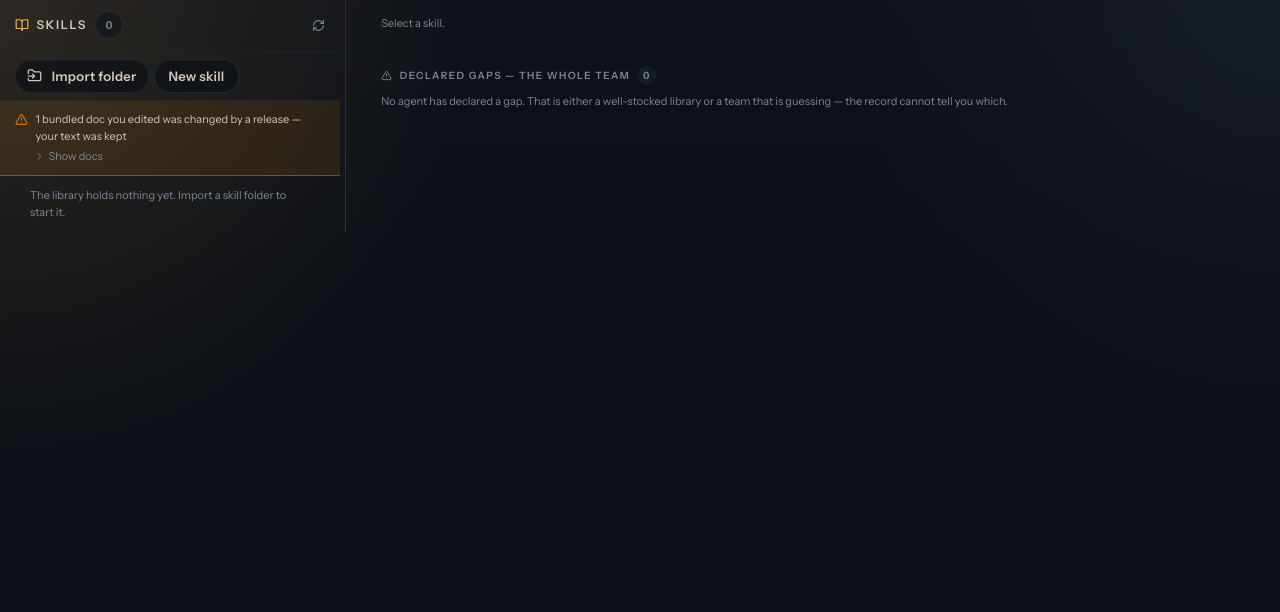
Test: the Skills page flag banner (DL-232) › shows the reason on the card when a decision is refused
This screenshot has width=1280, height=612.
Expected: the message named "bundled skill docs kept for your decision" is shown, [0,101,340,176]
Click the button "Show docs" at (68, 157), box [34,148,103,166]
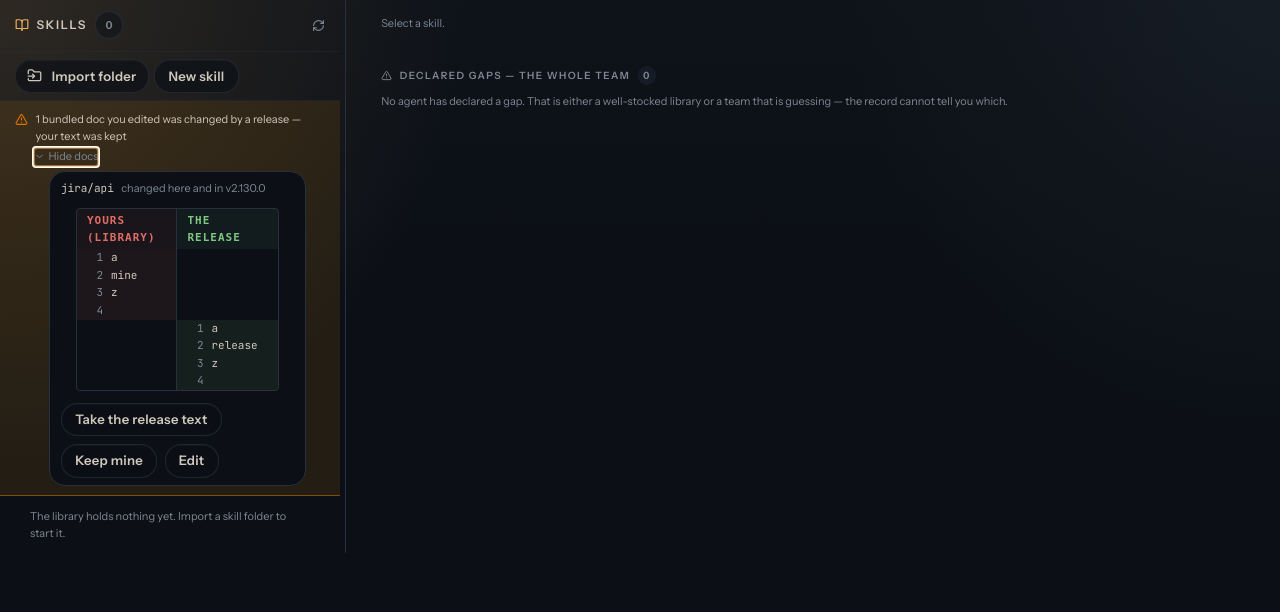
Click the button "Keep mine" at (109, 461), box [61,444,157,478]
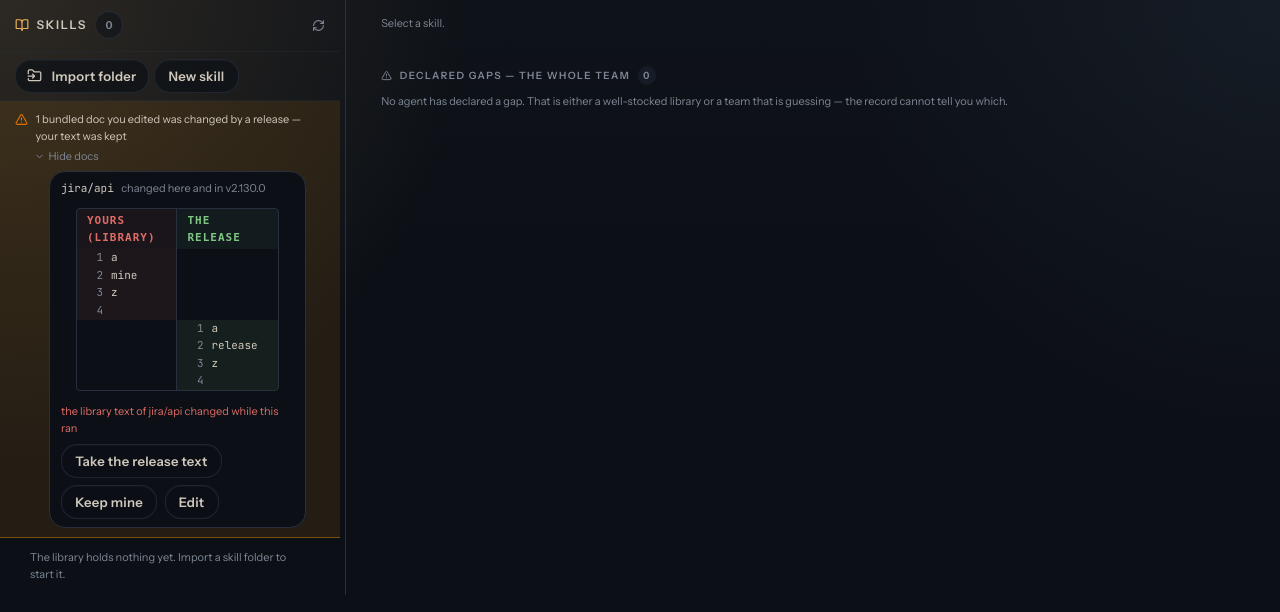
Expected: the message shows "changed while this ran", [61,404,278,434]
